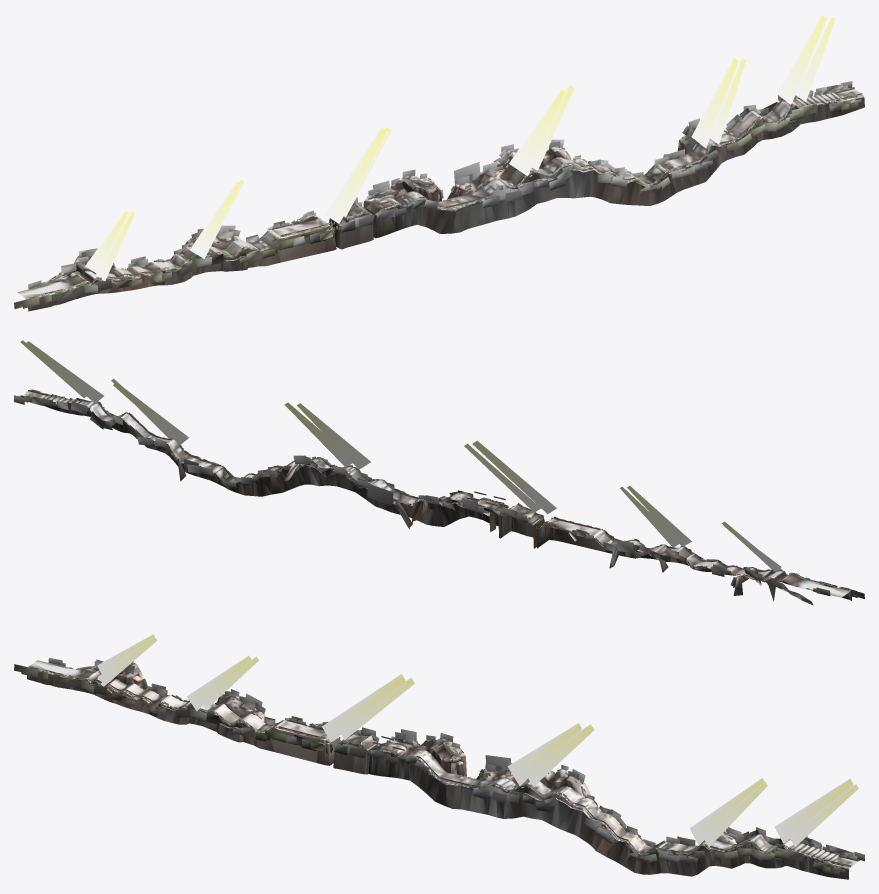
The model's file is Forest_13.fbx.
3 renders of one model, top to bottom at view 1: azimuth 30°, elevation 25°; view 2: azimuth 150°, elevation 25°; view 3: azimuth 330°, elevation 25°, orthographic.
Parts seen in each view (by area): view 1: Mountain_01, Tree_01, Light_01, Ground_01, Leak_01; view 2: Mountain_01, Tree_01, Light_01, Ground_01, Leak_01; view 3: Mountain_01, Tree_01, Light_01, Ground_01, Leak_01.
Part boxes in pixels (bbox=[...]): Mountain_01: bbox=[26, 94, 864, 311]; Tree_01: bbox=[14, 81, 862, 308]; Light_01: bbox=[85, 14, 835, 280]; Ground_01: bbox=[17, 89, 860, 298]; Leak_01: bbox=[107, 87, 862, 278]; Mountain_01: bbox=[29, 390, 851, 605]; Tree_01: bbox=[14, 389, 864, 598]; Light_01: bbox=[20, 340, 781, 571]; Ground_01: bbox=[22, 391, 850, 597]; Leak_01: bbox=[20, 390, 769, 571]; Mountain_01: bbox=[27, 662, 850, 879]; Tree_01: bbox=[14, 658, 864, 875]; Light_01: bbox=[97, 634, 858, 847]; Ground_01: bbox=[30, 660, 858, 867]; Leak_01: bbox=[109, 684, 858, 866].
Bounding box in the file's own units: 70989 × 10287 × 3953.
